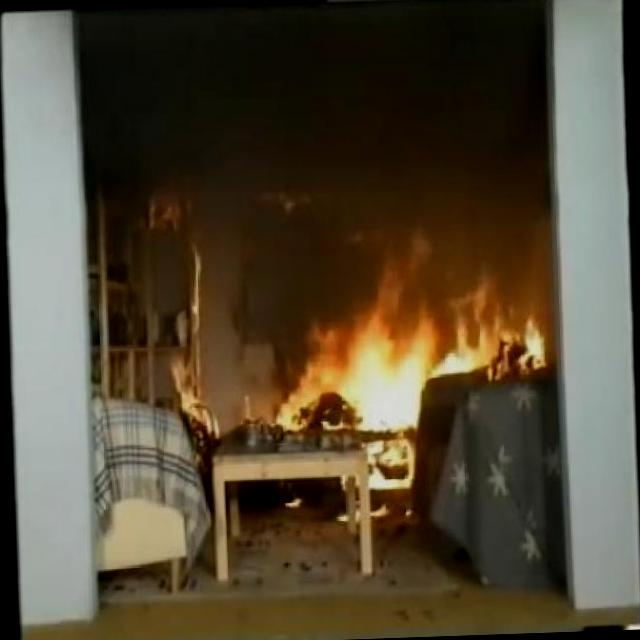fire: (284, 293, 546, 442)
